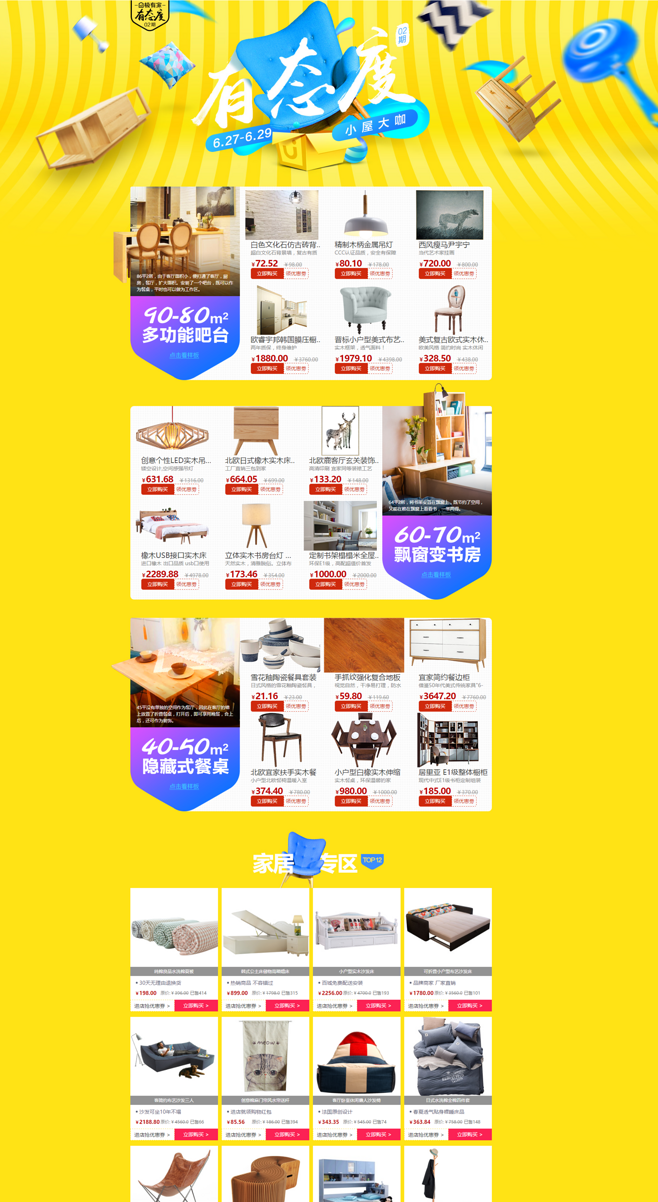floors: (110, 827, 511, 1202), (110, 610, 509, 818), (109, 397, 506, 604), (108, 184, 504, 382)
toutu: (1, 1, 658, 181)
